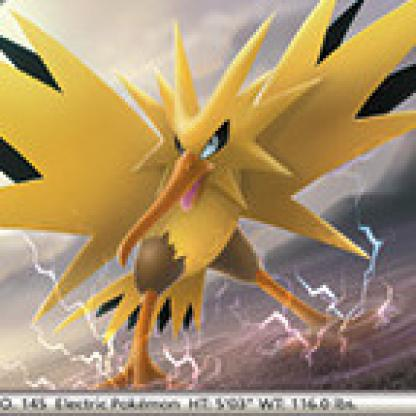Zapdos: (1, 1, 416, 399)
